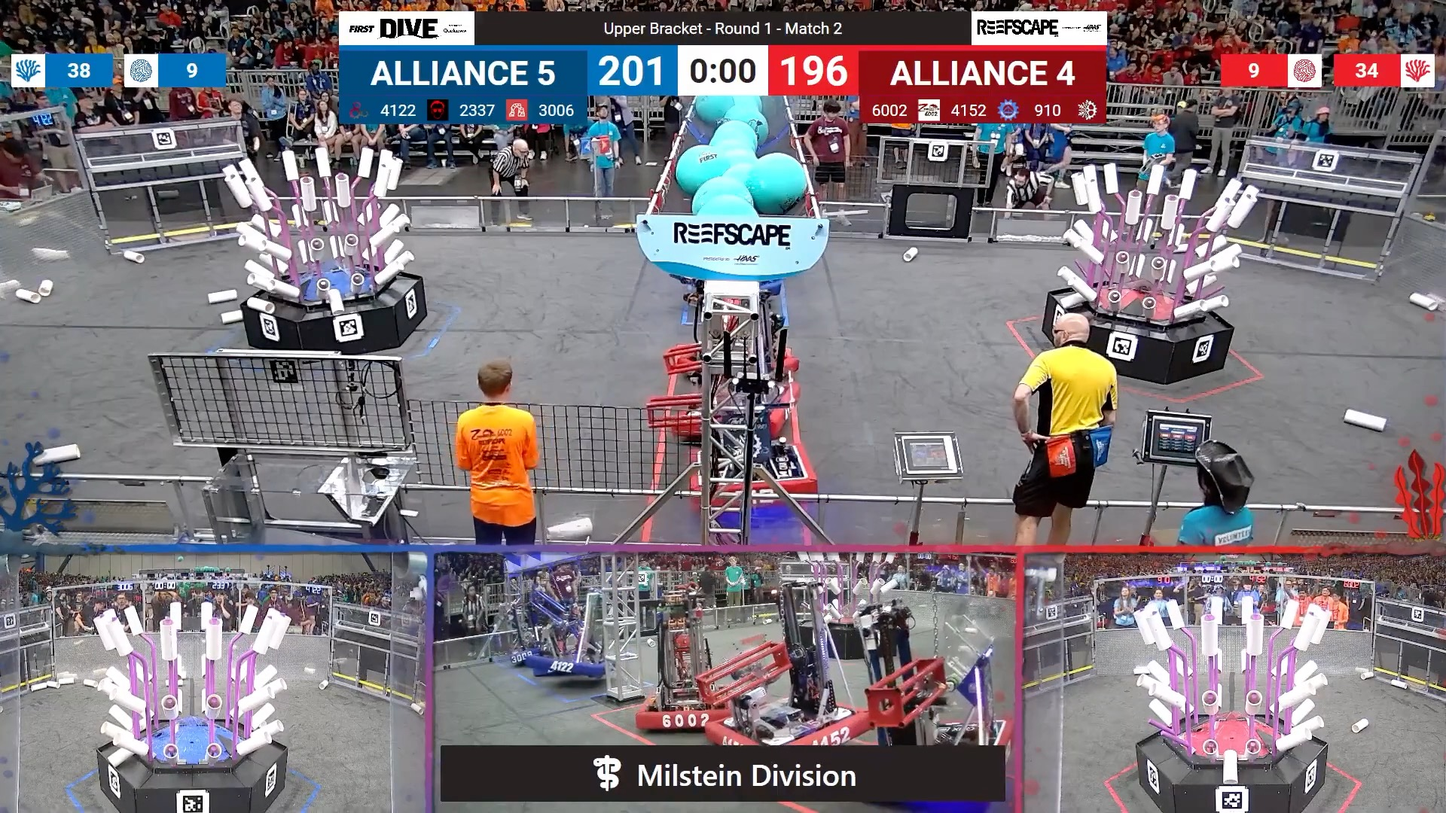bumpers: (703, 705, 862, 748), (520, 656, 615, 685)
